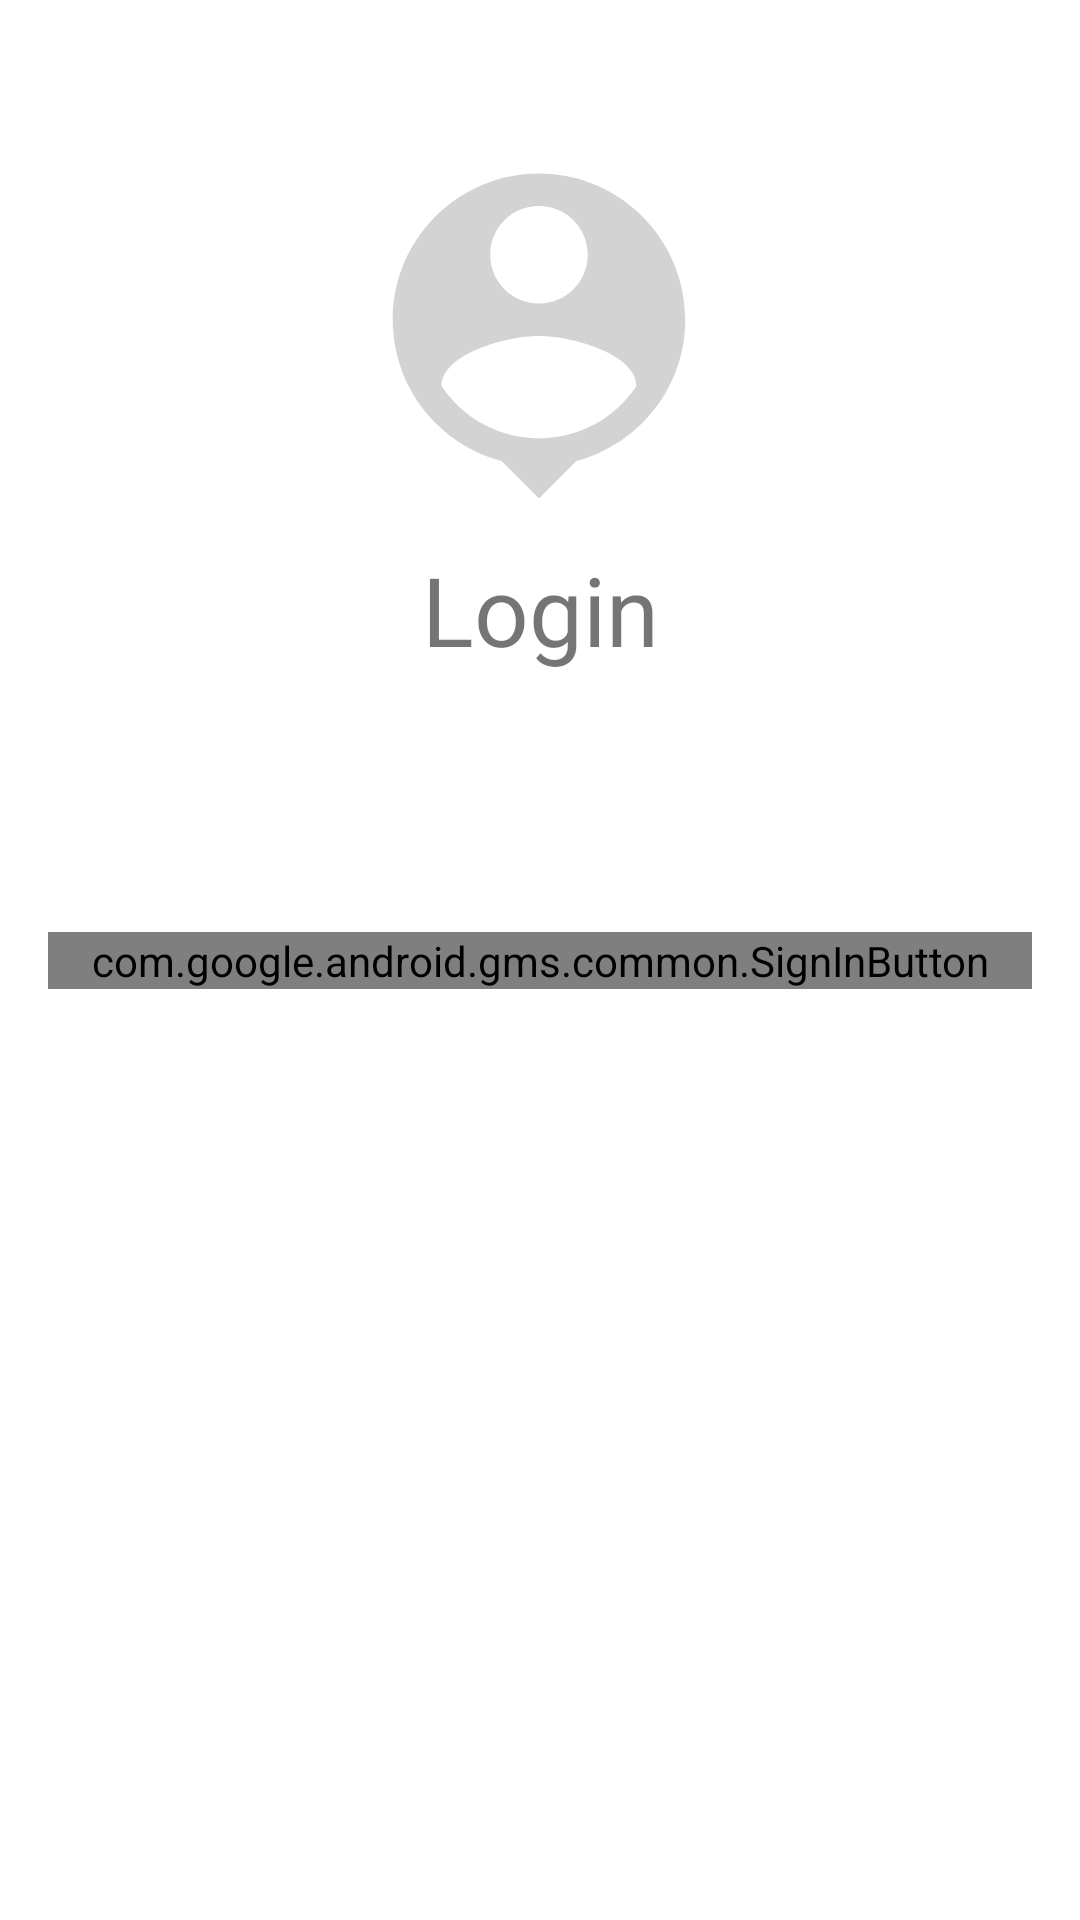

Where icons sit on this 1080px×1920px app screen, as [left=x1, top=y1, right=x2, bottom=y2]:
person pin: [left=393, top=174, right=685, bottom=498]
